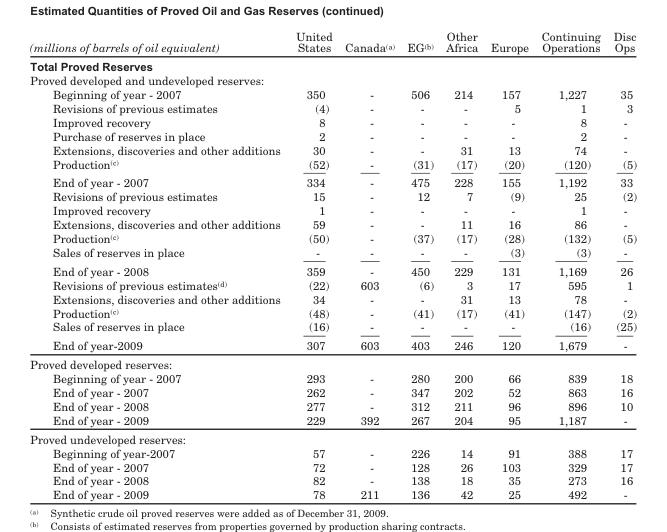table: (29, 29, 636, 500)
table column: (29, 29, 287, 500), (534, 29, 606, 500), (338, 29, 400, 500), (287, 29, 338, 500), (483, 29, 534, 500), (439, 29, 483, 500), (400, 29, 439, 500), (606, 29, 636, 500)
table column header: (29, 29, 636, 56)
table projected row header: (29, 56, 636, 73), (29, 354, 636, 371), (29, 429, 636, 445), (29, 73, 636, 86)
table row: (29, 29, 636, 56), (29, 335, 636, 354), (29, 56, 636, 73), (29, 172, 636, 189), (29, 244, 636, 261), (29, 354, 636, 371), (29, 412, 636, 429), (29, 156, 636, 172), (29, 261, 636, 277), (29, 319, 636, 335), (29, 429, 636, 445), (29, 86, 636, 100), (29, 100, 636, 114), (29, 114, 636, 128), (29, 128, 636, 142), (29, 142, 636, 156), (29, 189, 636, 203), (29, 203, 636, 217), (29, 230, 636, 244), (29, 277, 636, 291), (29, 291, 636, 305), (29, 305, 636, 319), (29, 384, 636, 398), (29, 398, 636, 412), (29, 445, 636, 459), (29, 459, 636, 473), (29, 473, 636, 487), (29, 73, 636, 86), (29, 217, 636, 230), (29, 371, 636, 384), (29, 487, 636, 500)
